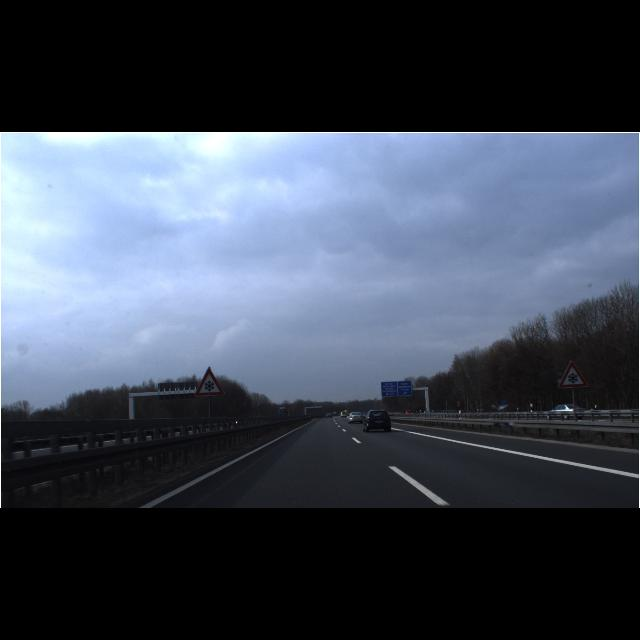danger: (193, 367, 224, 397), (558, 360, 588, 390)
